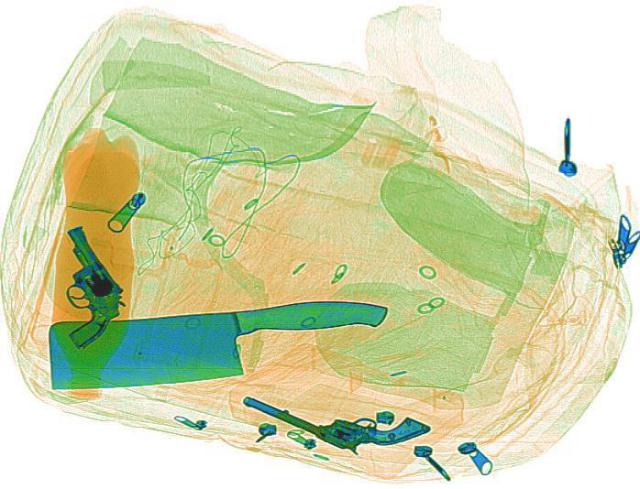Gun: (226, 378, 439, 467), (38, 220, 138, 349)
Knife: (34, 291, 398, 396)
